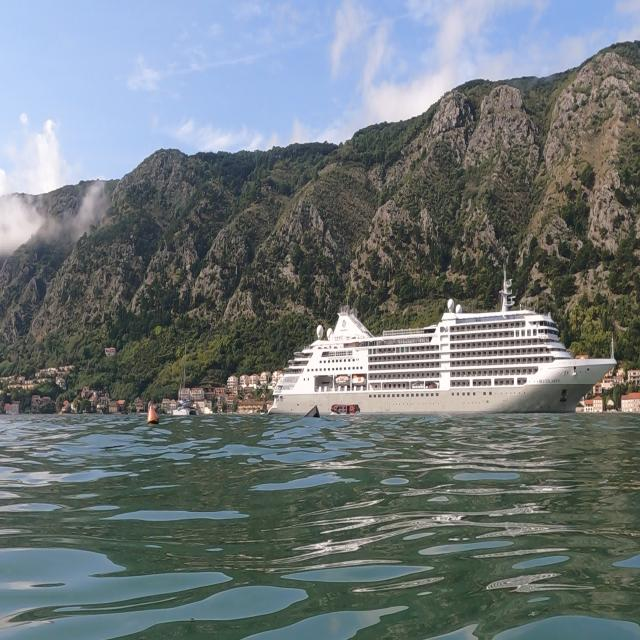boat: (265, 262, 618, 418), (172, 339, 202, 422)
buoy: (299, 401, 324, 430), (142, 404, 159, 426)
